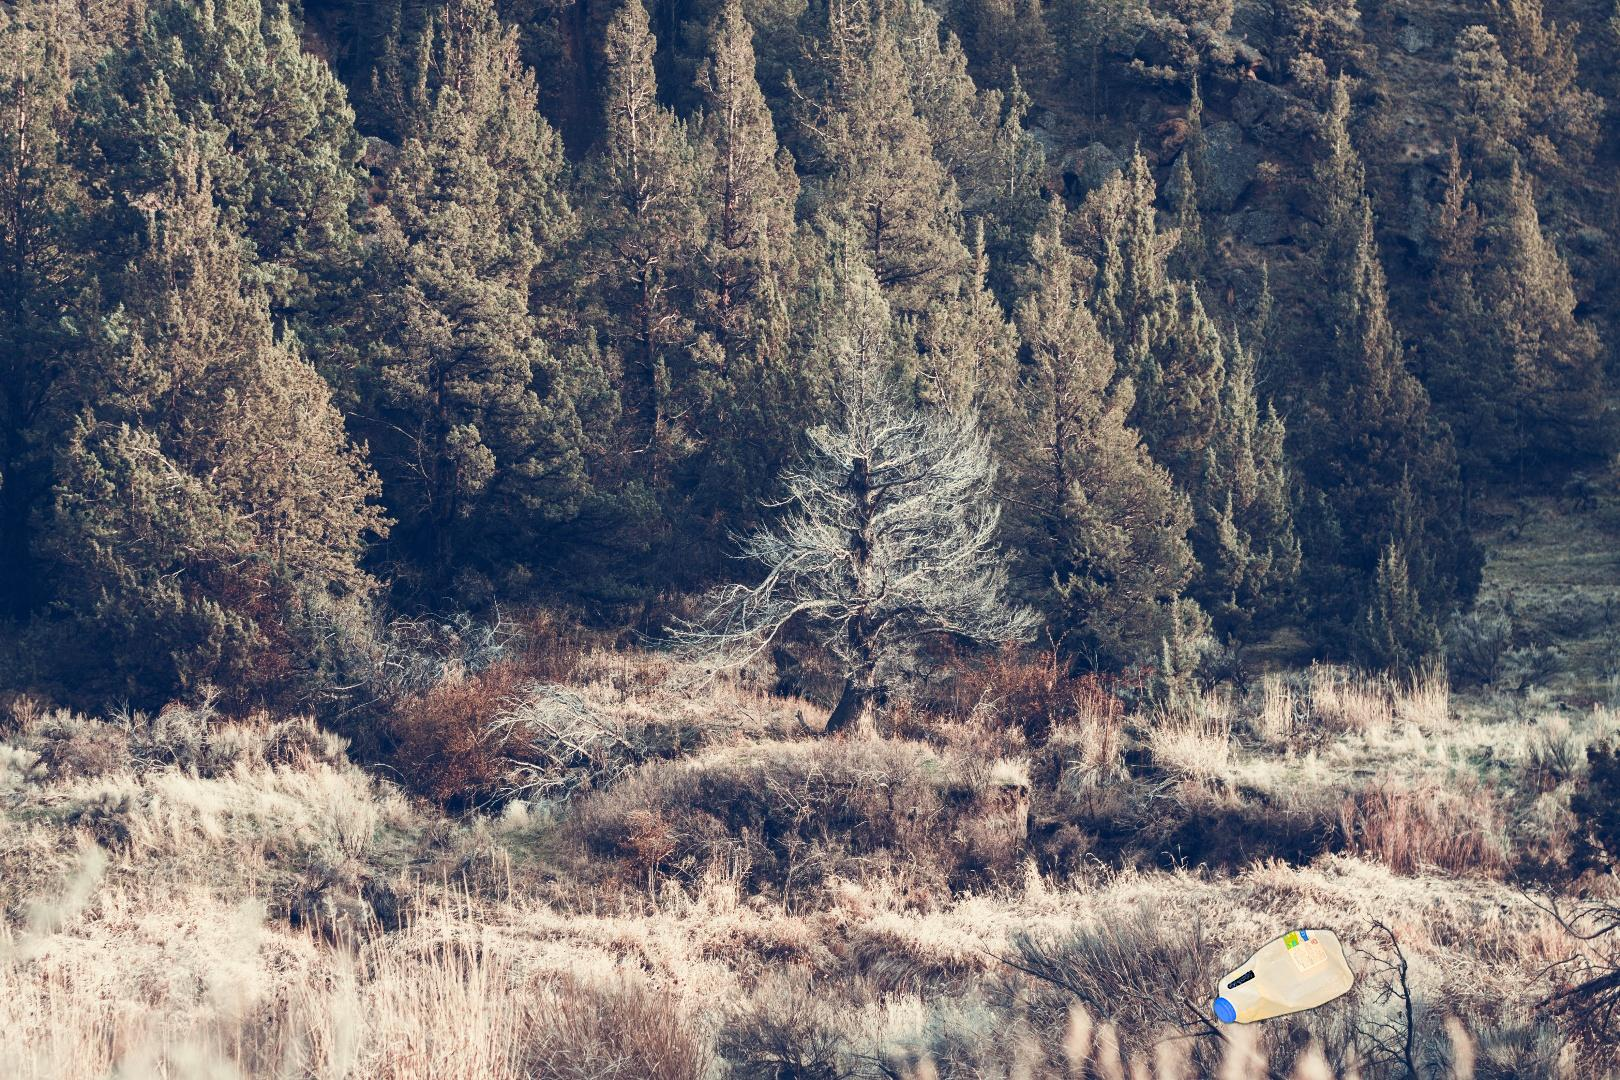plastic-bottles: (1209, 922, 1360, 1031)
